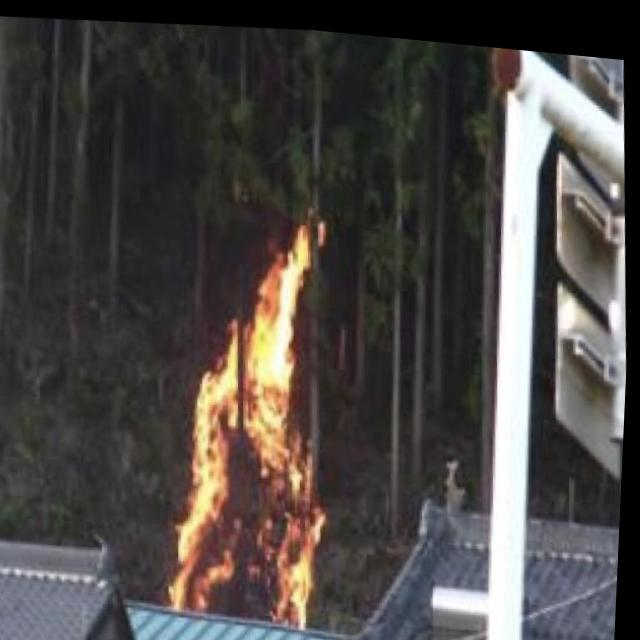fire: (160, 202, 348, 630)
